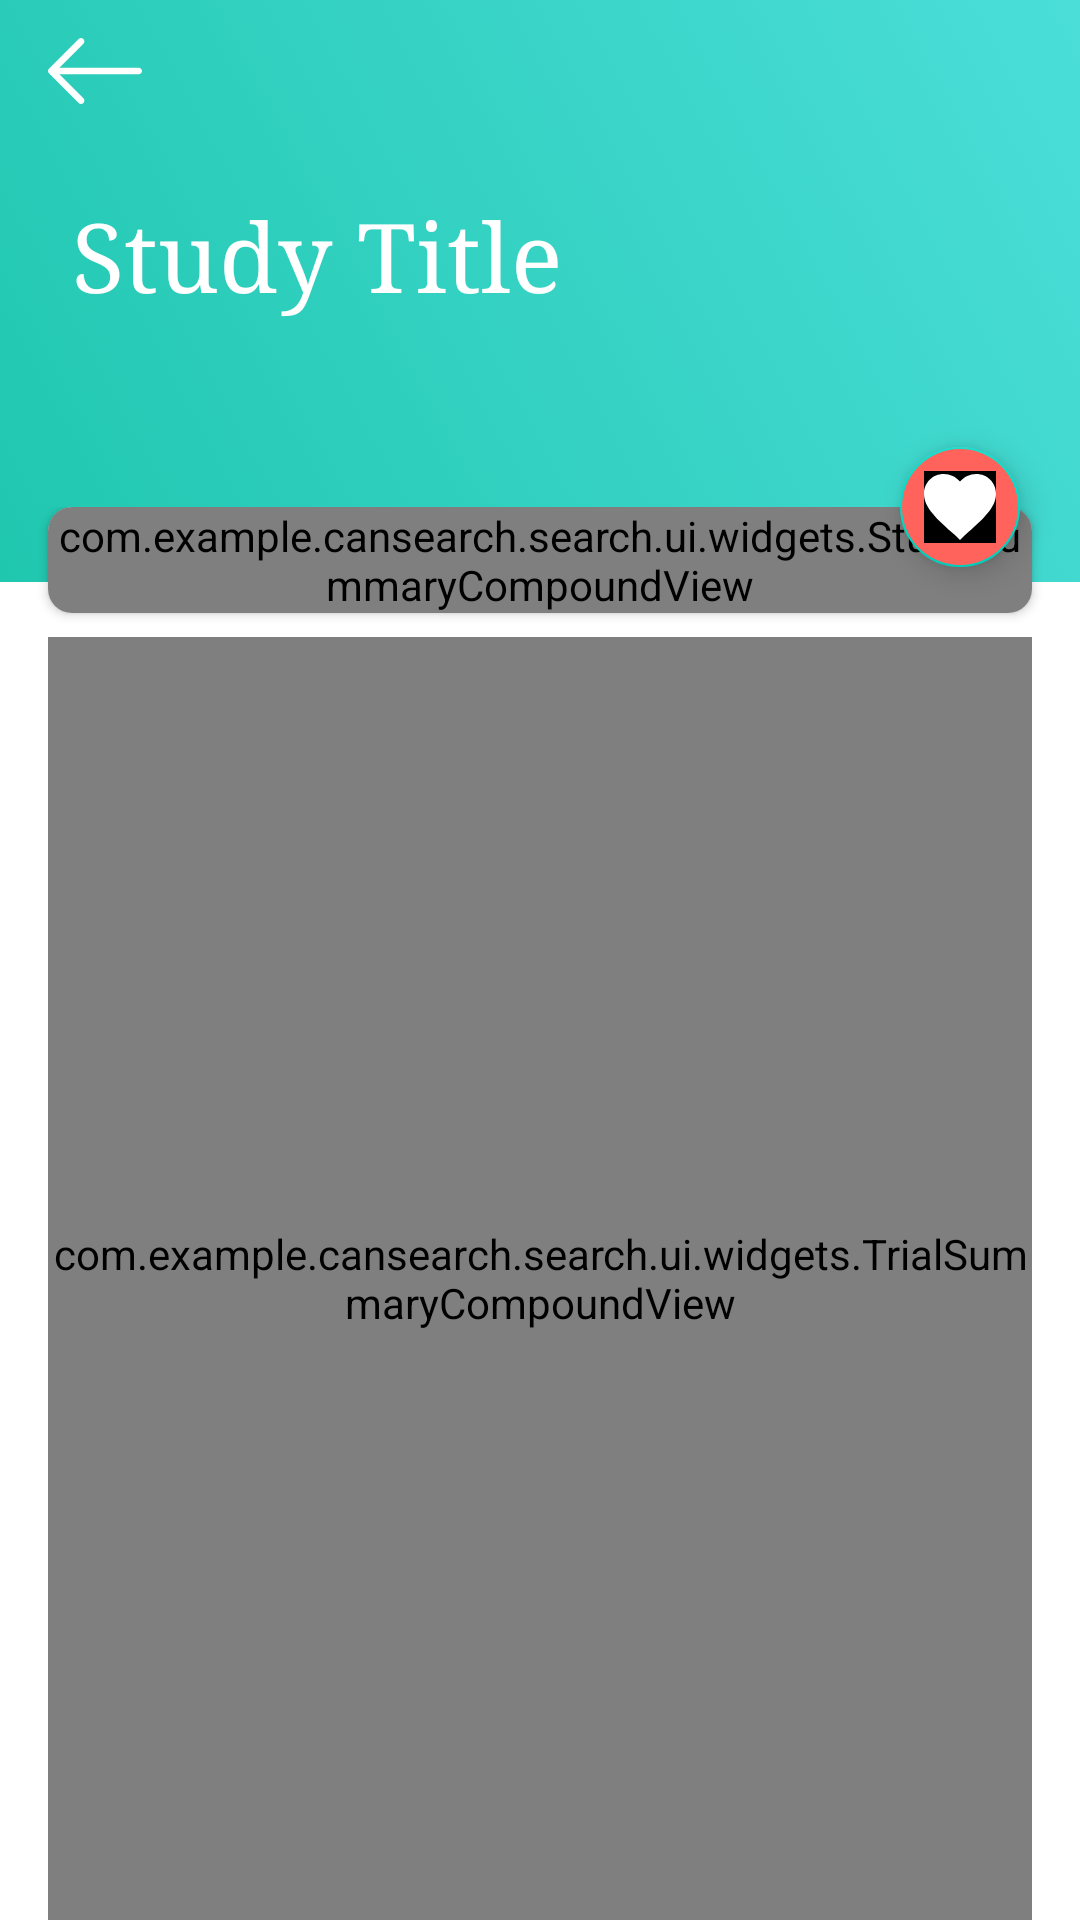

Named icons in this screenshot (1080x1920) and their centers, (x,y):
arrow: (95,71)
heart save: (960,507)
